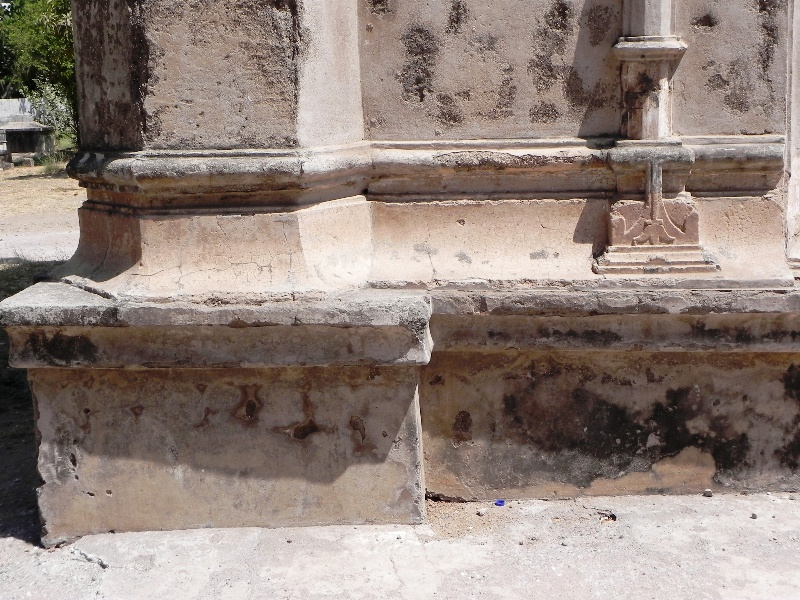Spalling: (525, 1, 609, 112), (122, 13, 164, 115), (399, 29, 439, 95)
